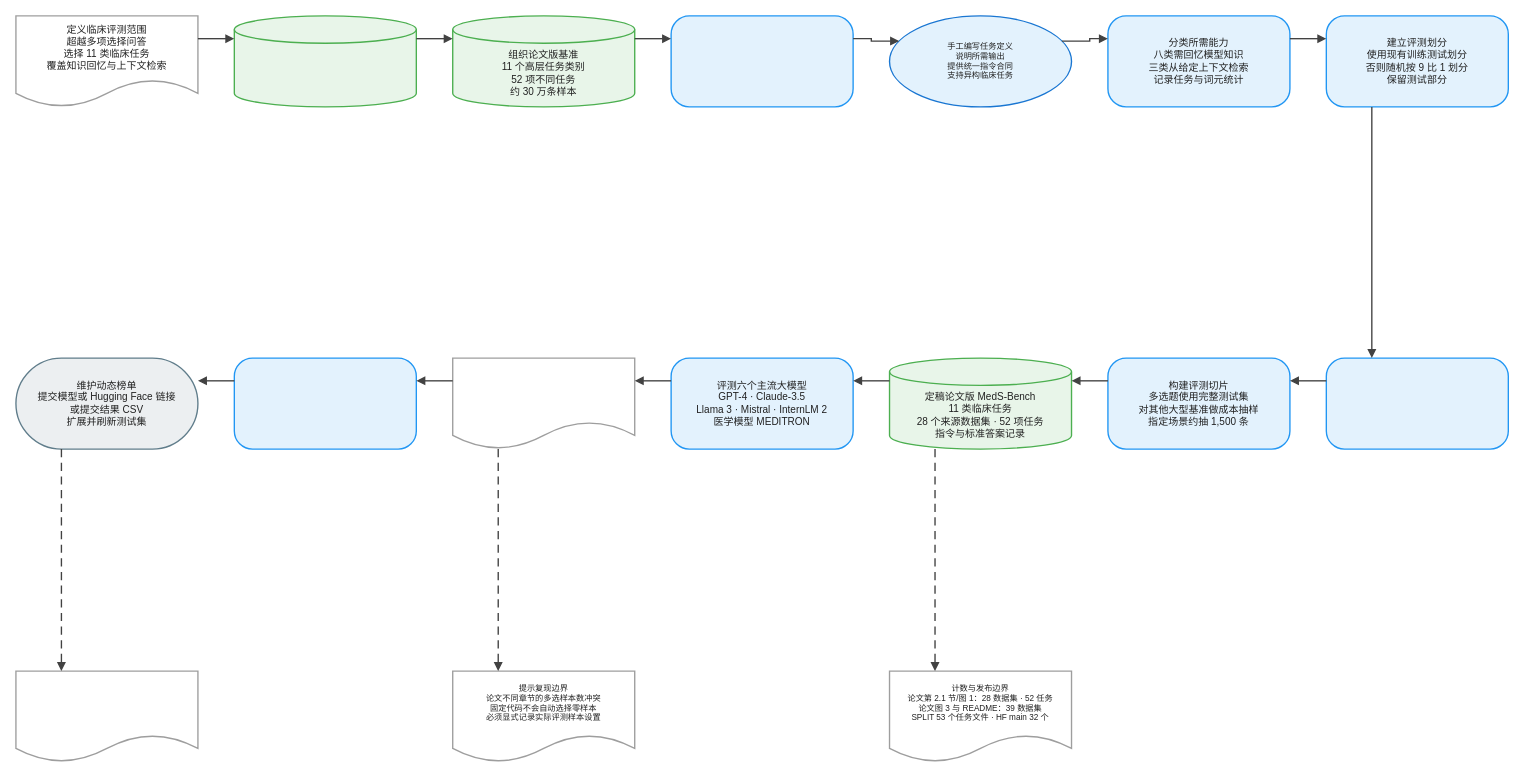
This 1525x779 diagram has some shape labels left out. The centre of each missing label's shape, as x and y in pixels:
"保留提示合同冲突 第 2.3 节：多选零样本，其余三样本 附录 A.1：全部评测均为三样本 固定 eval.py 默认：三样本" goes at point (543, 403).
"按输出合同评分 封闭决策使用准确率 标签任务用精确率召回率与 F1 生成任务用 BLEU 与 ROUGE" goes at point (325, 403).
"整合现有来源 论文版包含 28 个数据集 临床文本 · 考试 · 论文 医学知识资源" goes at point (325, 61).
"访问与权利边界 代码 LICENSE 声明 CC BY-SA README 无许可声明 HF 基准卡无许可字段 · 来源条款仍适用" goes at point (106, 716).
"重构每个数据集 转为指令提示问答结构 规范化输入与输出 保留原数据集语义" goes at point (761, 61).
"防止提示泄漏 示例中排除测试样本 从训练数据抽取演示 测试标准答案保持隐藏" goes at point (1417, 403).
